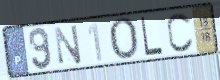1: (87, 21, 104, 63)
9: (28, 26, 54, 71)
C: (166, 11, 195, 54)
L: (140, 15, 165, 57)
N: (53, 23, 84, 66)
O: (107, 16, 140, 62)
